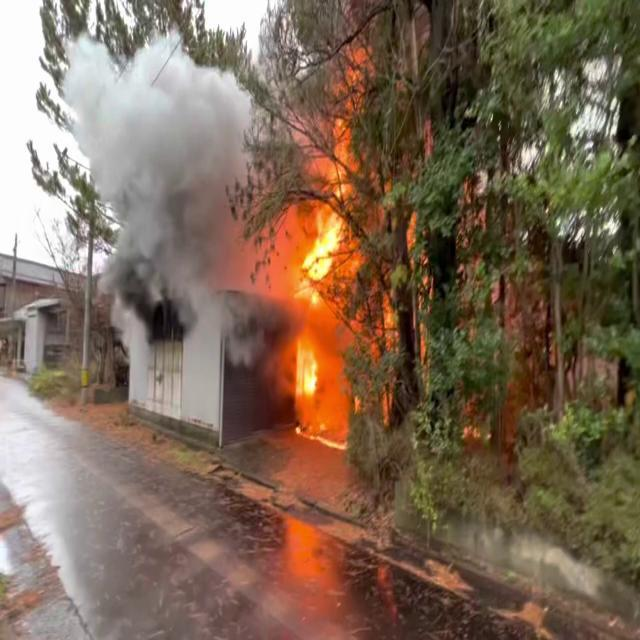Fire: (254, 33, 404, 404)
Smoke: (62, 28, 274, 360)
